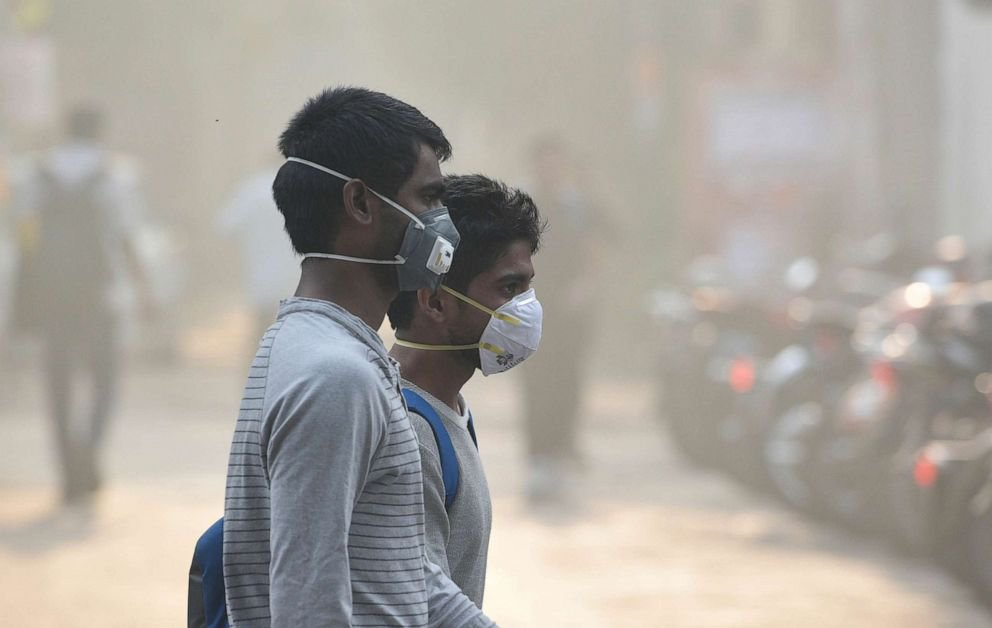mask: (270, 92, 473, 302), (420, 179, 570, 385)
